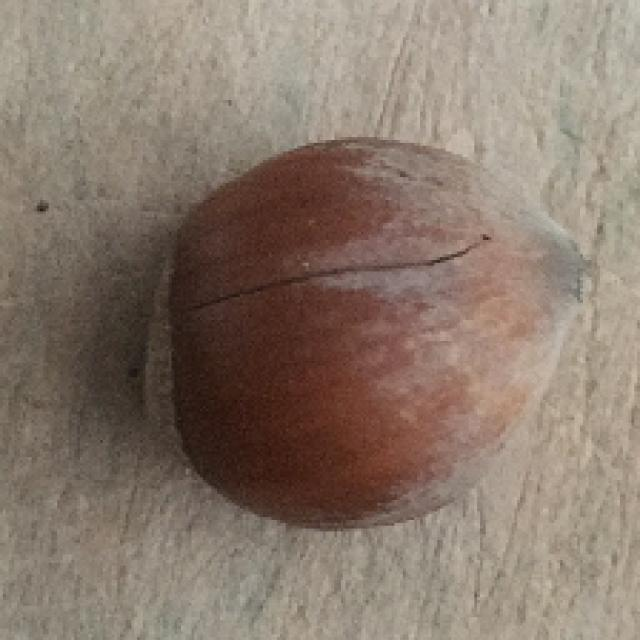qualityHazelnut: (134, 123, 591, 538)
